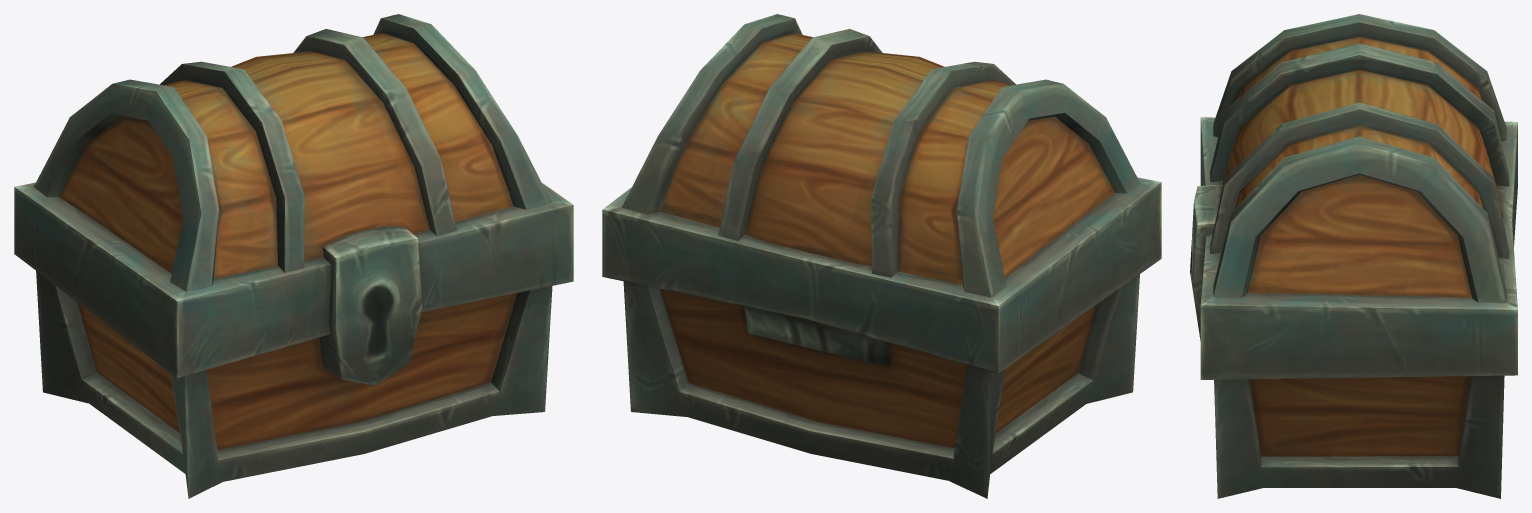
Rendered from treasure_chest.obj.
3 renders of one model, left to right at view 1: azimuth 30°, elevation 25°; view 2: azimuth 150°, elevation 25°; view 3: azimuth 270°, elevation 25°, orthographic. The views are drawn at different scales.
Parts seen in each view (by area): view 1: Box001_chest_0; view 2: Box001_chest_0; view 3: Box001_chest_0.
Boxes of the visible parts, box(x1,y1,x2,y2) form: Box001_chest_0: box(14, 14, 573, 498); Box001_chest_0: box(602, 14, 1161, 498); Box001_chest_0: box(1190, 14, 1517, 498).
Size of the model in its own units: 0.7599 by 0.6372 by 0.56.
